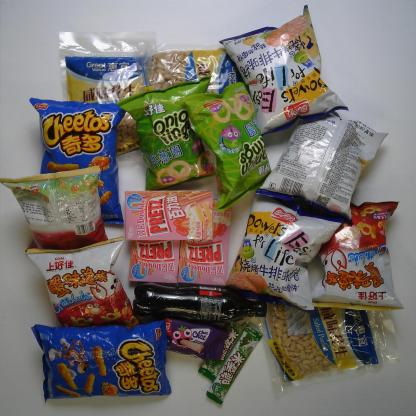Chocolate: (203, 321, 266, 408), (194, 320, 247, 383)
Dessert: (120, 187, 216, 243), (178, 202, 233, 289), (156, 316, 230, 364), (125, 235, 182, 286)
Dried Fruit: (256, 295, 404, 400), (55, 26, 156, 158), (144, 39, 243, 108)
Drink: (131, 277, 268, 326)
Puffed Food: (216, 3, 351, 140), (253, 108, 390, 226), (225, 187, 346, 315), (27, 93, 127, 230), (113, 74, 220, 194), (180, 80, 274, 216), (28, 320, 174, 404), (309, 198, 407, 314), (23, 236, 146, 328), (0, 164, 110, 254)
